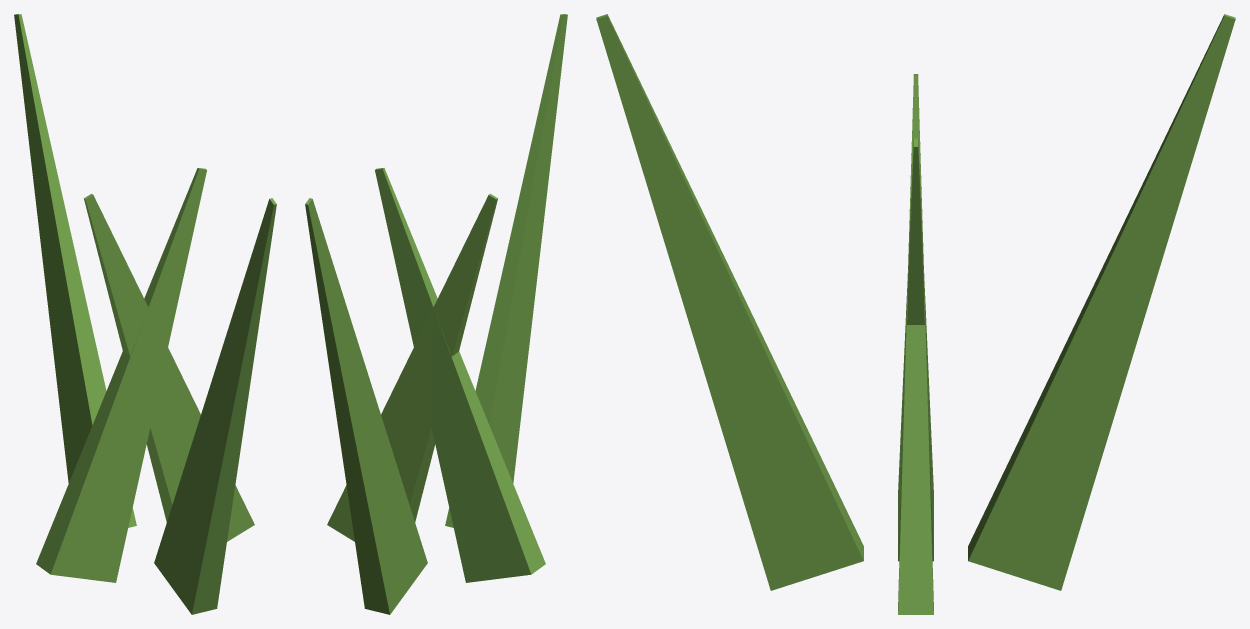
The model's file is prop_grass_tuft.glb.
The picture shows the model from 3 angles, left to right: view 1: azimuth 30°, elevation 25°; view 2: azimuth 150°, elevation 25°; view 3: azimuth 270°, elevation 25°; orthographic projection. The views are drawn at different scales.
Parts seen in each view (by area): view 1: prop_grass_tuft; view 2: prop_grass_tuft; view 3: prop_grass_tuft.
Boxes of the visible parts, x1=… form: prop_grass_tuft: x1=14, y1=14, x2=276, y2=614; prop_grass_tuft: x1=305, y1=14, x2=567, y2=614; prop_grass_tuft: x1=596, y1=14, x2=1235, y2=614.
Size of the model in its own units: 0.1619 by 0.3497 by 0.3563.
